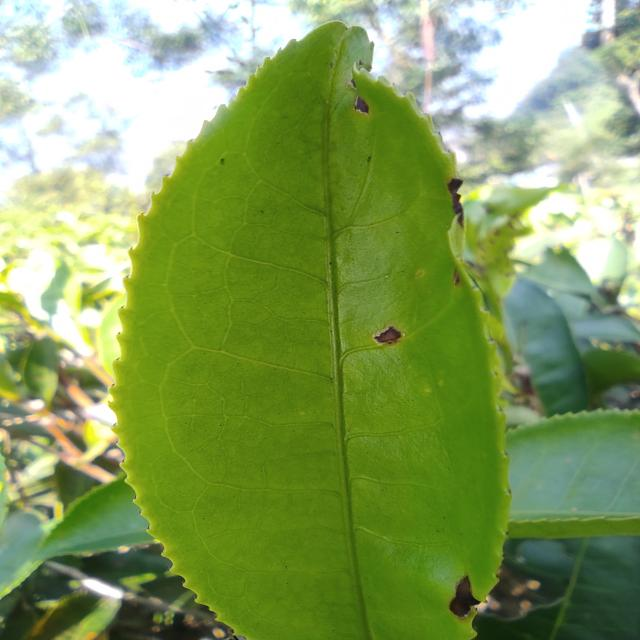Category C 4-7 days: (88, 11, 519, 640)
